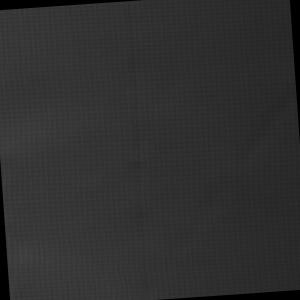Wrinkle: (156, 83, 300, 265)
